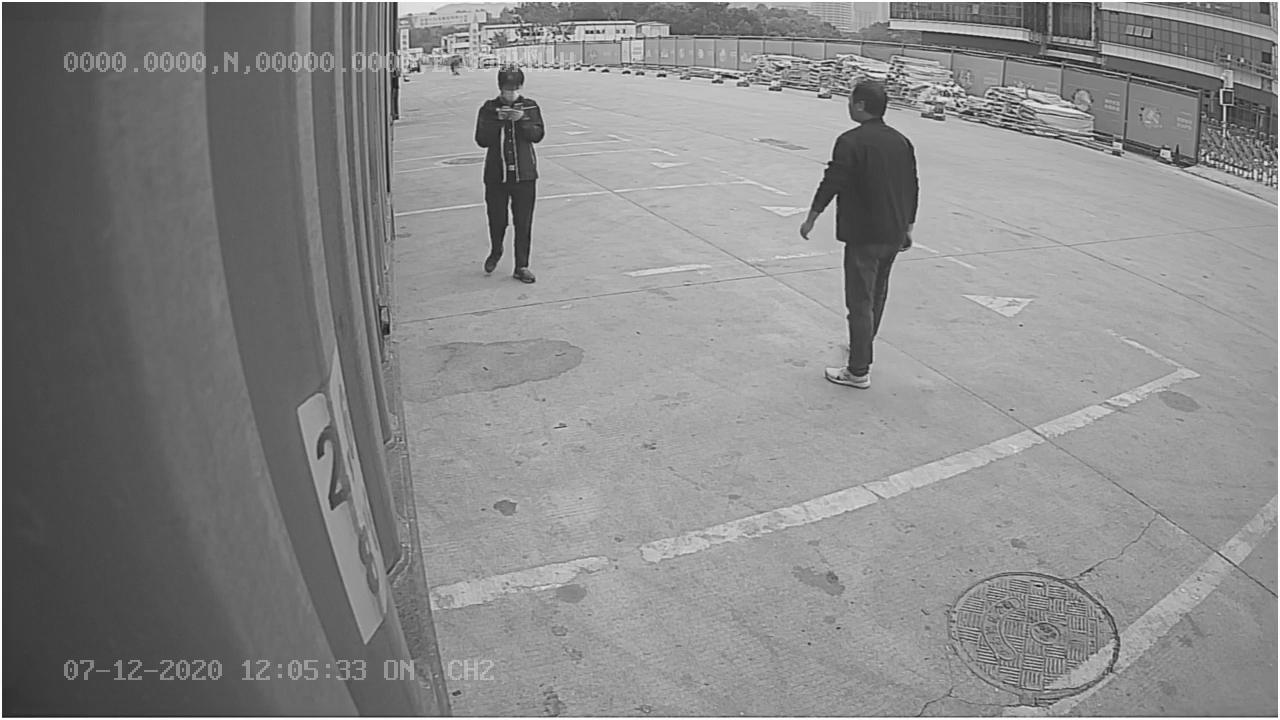person: (795, 72, 918, 391)
